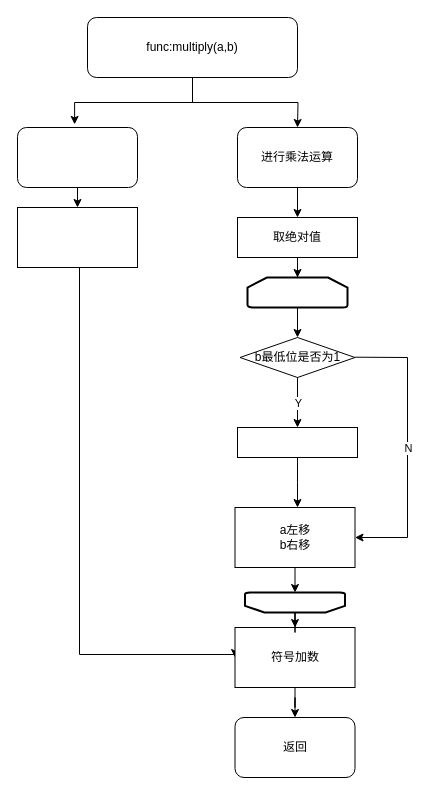
The diagram is 433 pixels wide and 795 high, and some of its shapes have lost their labels. Here are the shapes that lost their labels. From the top down, the centre of each, then its label:
At (x=77, y=157): "判断符号".
At (x=77, y=237): "异或两个相同的判断条件".
At (x=297, y=292): "while(b!=0)".
At (x=297, y=442): "将a加入结果".
